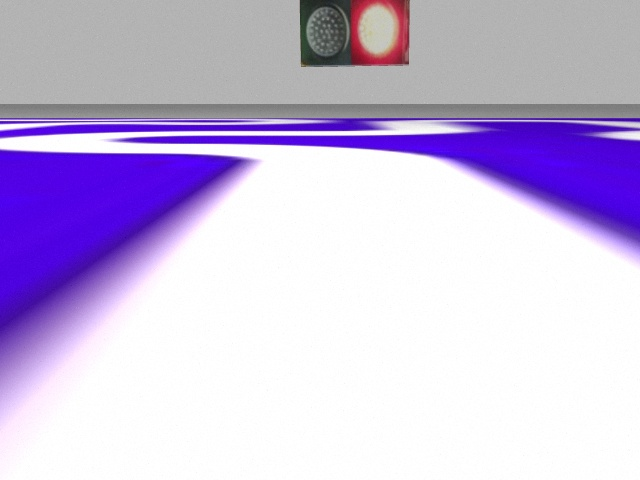red: (353, 1, 408, 63)
